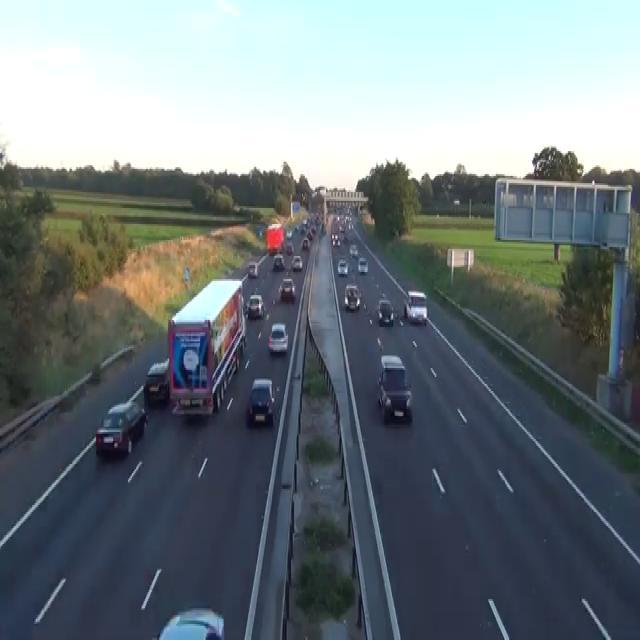Car: (95, 402, 148, 455), (376, 354, 411, 419), (156, 606, 225, 638), (247, 377, 275, 425), (144, 358, 169, 403), (126, 384, 148, 423), (403, 290, 427, 324), (268, 322, 288, 354), (344, 283, 361, 311), (246, 294, 265, 318), (377, 299, 394, 325), (278, 278, 295, 300), (357, 256, 368, 274), (273, 252, 284, 270), (337, 258, 348, 276), (247, 262, 259, 278), (291, 254, 302, 270), (91, 361, 100, 379), (240, 332, 246, 356), (349, 244, 358, 258), (254, 224, 263, 238), (268, 219, 280, 229), (243, 299, 249, 318), (331, 233, 340, 245), (301, 238, 310, 249), (285, 242, 293, 254), (306, 229, 313, 240), (268, 246, 277, 254), (339, 222, 345, 233), (300, 224, 306, 235), (286, 228, 292, 238), (309, 226, 316, 234), (348, 220, 353, 230), (453, 199, 460, 205), (294, 224, 298, 231)
Truck: (167, 277, 246, 416), (266, 222, 284, 254)
